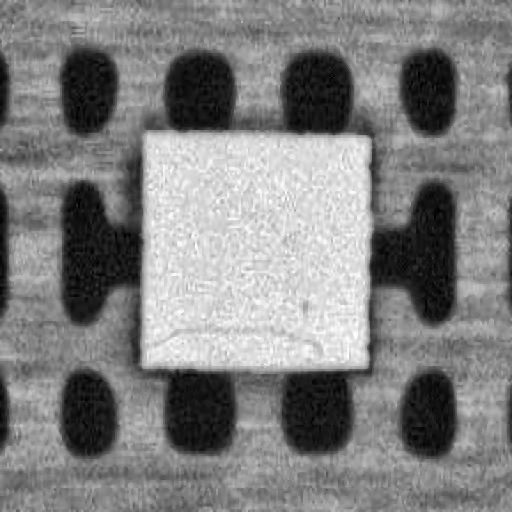DIE_CRACK: (146, 324, 322, 352)
